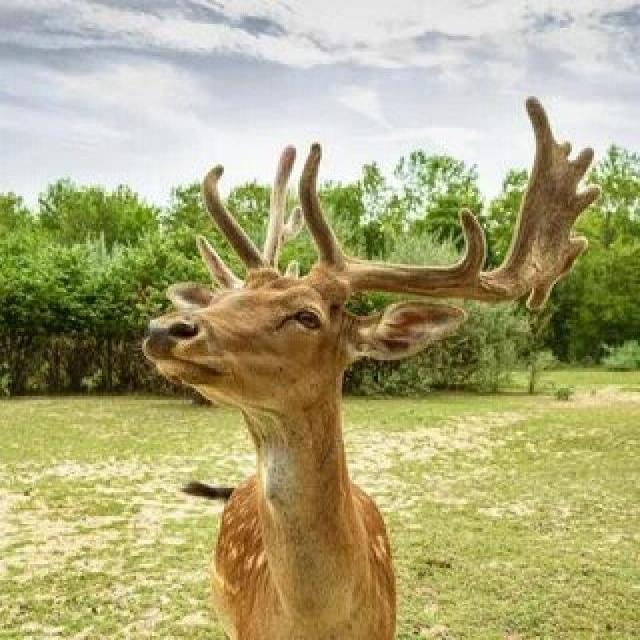deer: (158, 142, 542, 640)
